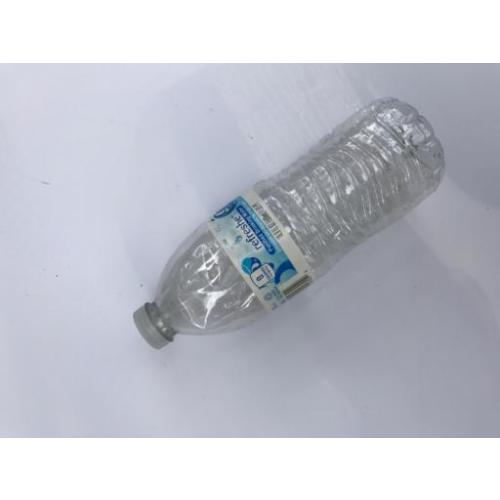plastic: (133, 96, 447, 351)
